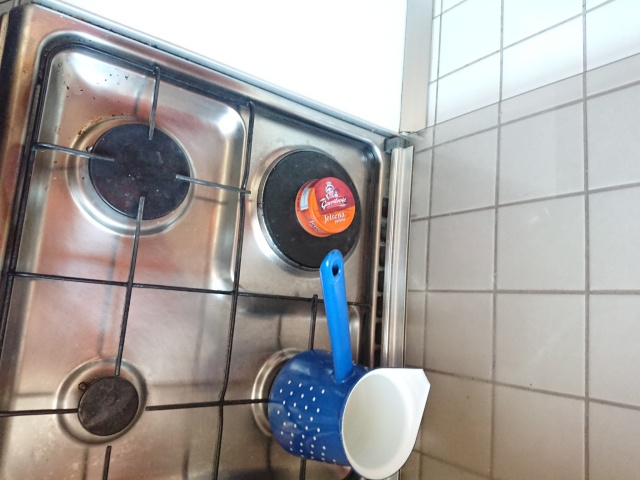Gavrilovic Pork Liver Pate 100g: (292, 174, 357, 238)
